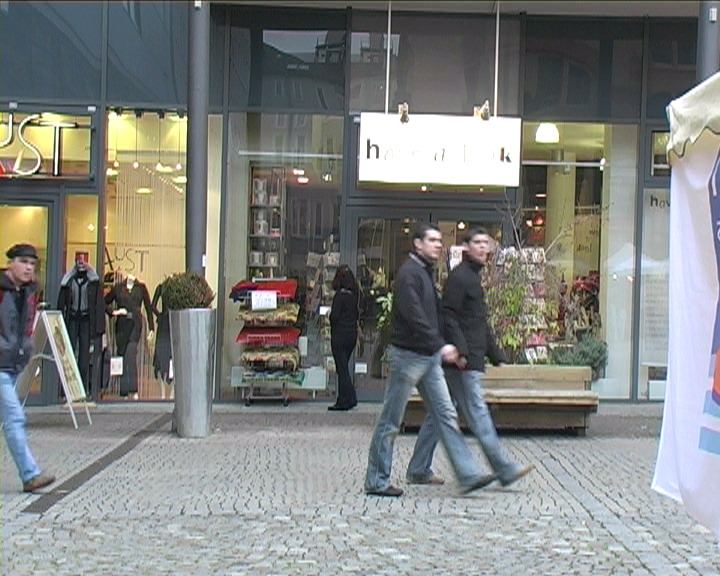deflection: (452, 230, 498, 335)
